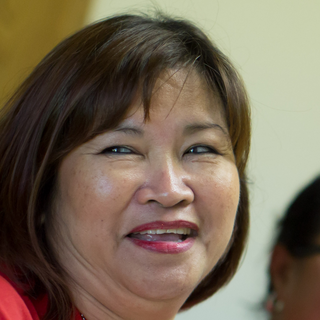eye: (94, 140, 144, 163), (179, 139, 224, 164)
